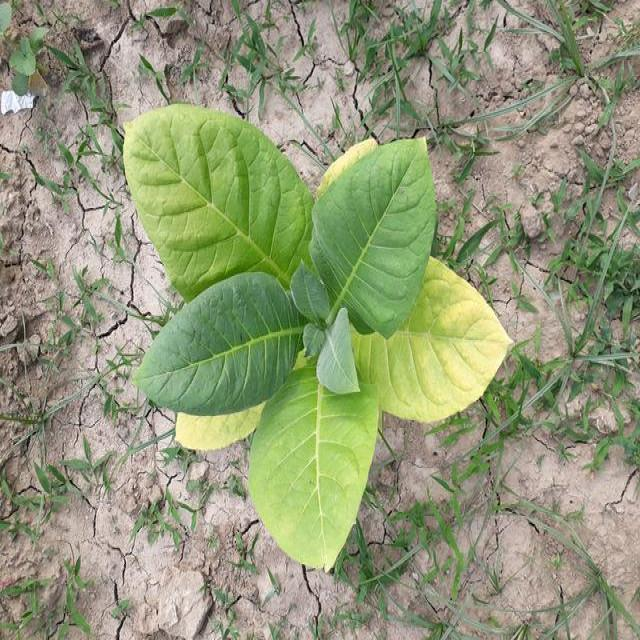crop: (106, 76, 518, 567)
